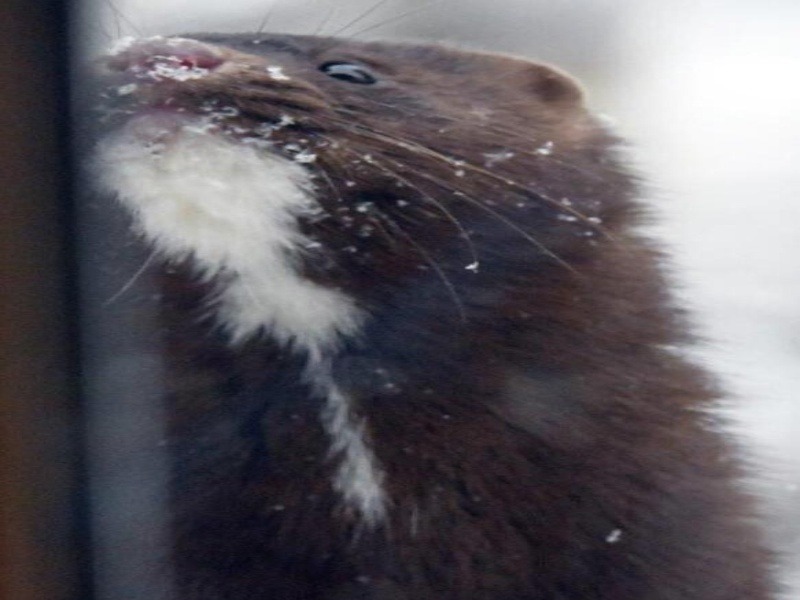minkish: (81, 29, 776, 588)
